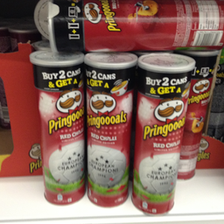chips: (133, 50, 194, 216), (48, 1, 224, 53), (29, 52, 86, 206), (83, 51, 137, 208)
